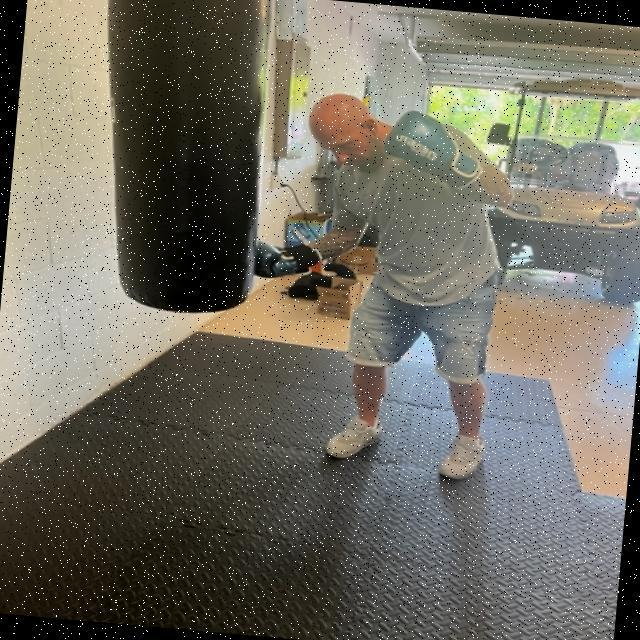punch: (185, 74, 513, 312)
